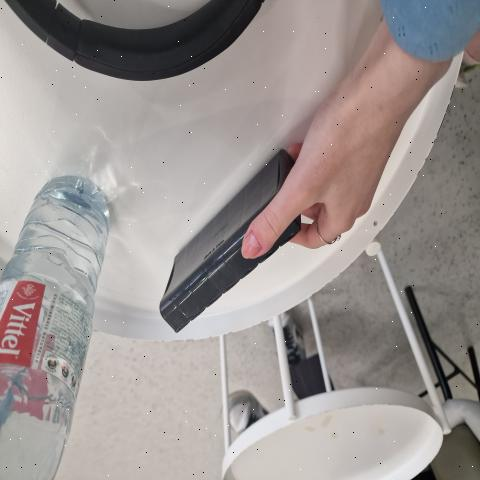PillBox: (152, 138, 323, 354)
